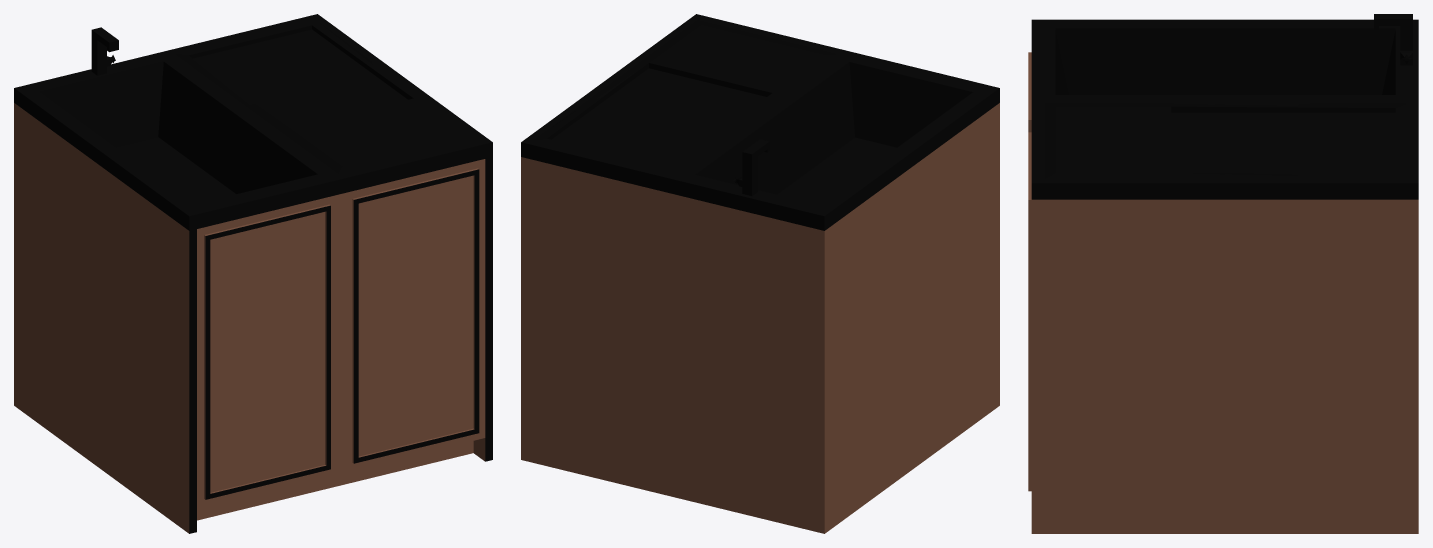
File: Sink_Counter.fbx
3 views of the same model, side by side, from view 1: azimuth 30°, elevation 25°; view 2: azimuth 150°, elevation 25°; view 3: azimuth 270°, elevation 25° (orthographic). The views are drawn at different scales.
Visible parts, largest first — view 1: Sink_Counter; view 2: Sink_Counter; view 3: Sink_Counter.
Part boxes in pixels (x1=…): Sink_Counter: x1=14, y1=14, x2=492, y2=533; Sink_Counter: x1=521, y1=14, x2=999, y2=533; Sink_Counter: x1=1028, y1=14, x2=1418, y2=533.
Bounding box in the file's own units: 1 × 1.13 × 1.01.
